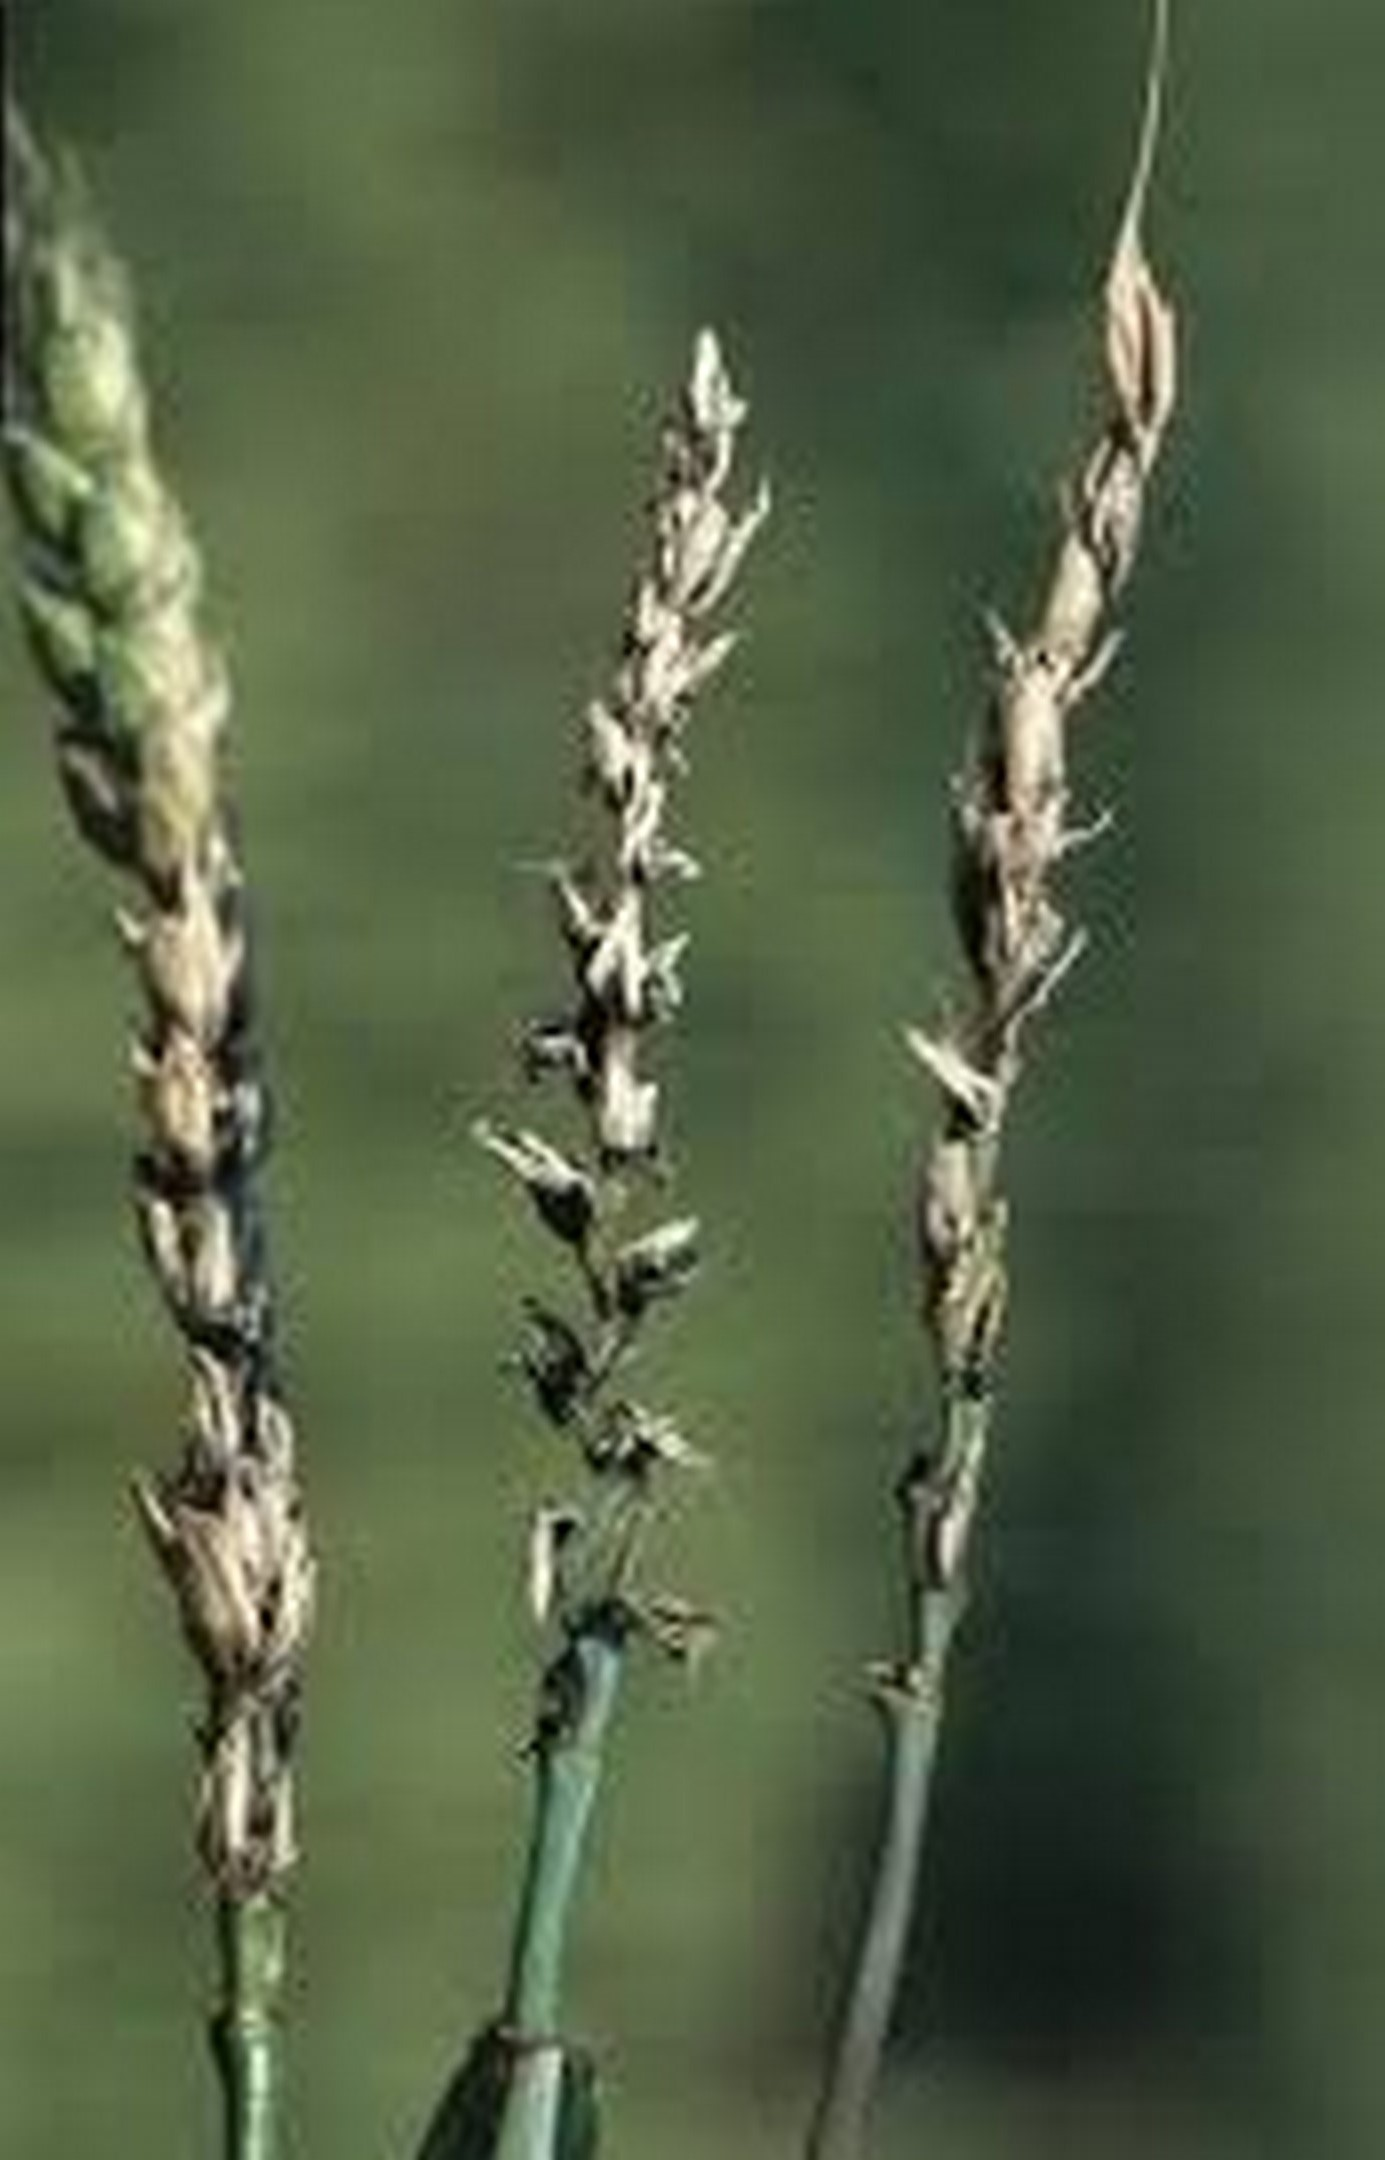Wheat Loose Smut: (101, 301, 1258, 1770)
